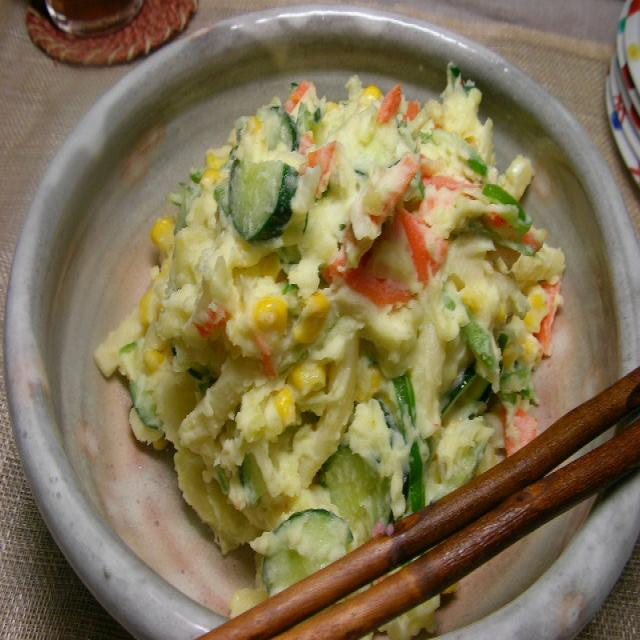蔬菜料理: (28, 43, 626, 629)
